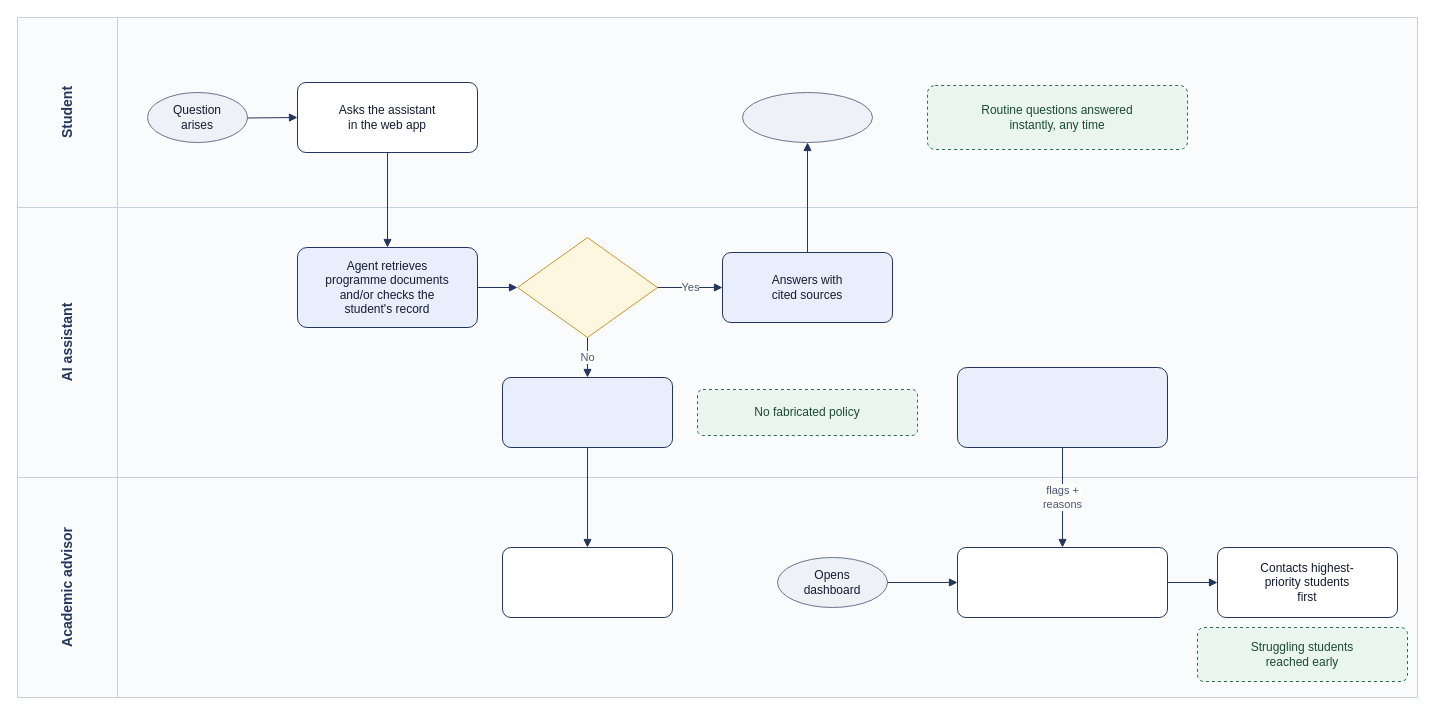
This 1435x715 diagram has some shape labels left out. The shapes that lost their labels are listed below. From the top down, each one's centre as x and y in pixels, then its label:
point 807,117: Acts on answer
point 587,287: Supported by documents or record?
point 587,412: Says it isn't covered; refers to advisor
point 1062,407: Rule-based classifier flags at-risk and borderline students
point 587,582: Handles the non-routine case
point 1062,582: Reviews ranked list and reasons
